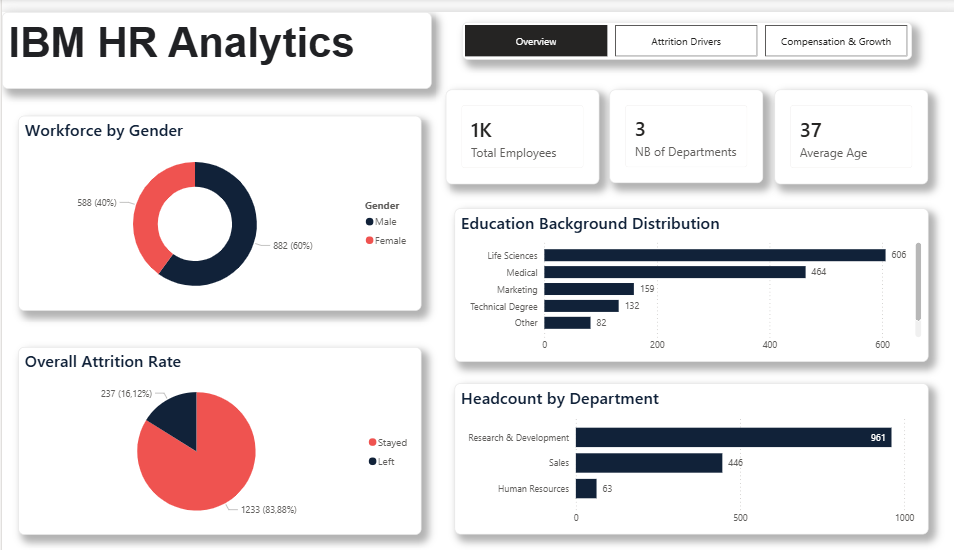

What the dashboard file says about the page in this screenshot:
{"tool":"powerbi","page":{"name":"Overview","canvas":[1280,720],"ordinal":0},"visuals":[{"type":"cardVisual","fields":{"Data":["WA_Fn-UseC_-HR-Employee-Attrition.NB of emplo"]},"box":[591.2,102.5,205,126.2],"z":0},{"type":"cardVisual","fields":{"Data":["WA_Fn-UseC_-HR-Employee-Attrition.NB of dept"]},"box":[810,103.8,205,125],"z":1000},{"type":"cardVisual","fields":{"Data":["WA_Fn-UseC_-HR-Employee-Attrition.avg age"]},"box":[1030,103.8,205,126.2],"z":2000},{"type":"donutChart","title":"Workforce by Gender","fields":{"Category":["WA_Fn-UseC_-HR-Employee-Attrition.Gender"],"Y":["WA_Fn-UseC_-HR-Employee-Attrition.NB of emplo"]},"box":[21.2,138.8,537.5,260],"z":3000},{"type":"pieChart","title":"Overall Attrition Rate","fields":{"Y":["WA_Fn-UseC_-HR-Employee-Attrition.attrition no","WA_Fn-UseC_-HR-Employee-Attrition.attrition yes"]},"box":[21.2,446.2,537.5,250],"z":4000},{"type":"clusteredBarChart","title":"Headcount by Department","fields":{"Y":["WA_Fn-UseC_-HR-Employee-Attrition.NB of emplo"],"Category":["WA_Fn-UseC_-HR-Employee-Attrition.Department"]},"box":[603.3,495,631.7,201.7],"z":5000},{"type":"clusteredBarChart","title":"Education Background Distribution","fields":{"Y":["WA_Fn-UseC_-HR-Employee-Attrition.NB of emplo"],"Category":["WA_Fn-UseC_-HR-Employee-Attrition.EducationField"]},"box":[603.3,261.7,631.7,205],"z":6000},{"type":"pageNavigator","box":[612.5,13.8,600,50],"z":6001},{"type":"textbox","box":[0,0,572.5,102.5],"z":6002}]}

Visuals, with their boxes in screenshot pixels (x1, y1, x2, y2), scaled from the page's 1280x720 canvas onto the 954x550 screenshot:
cardVisual - WA_Fn-UseC_-HR-Employee-Attrition.NB of emplo: <box>441,78,593,175</box>
cardVisual - WA_Fn-UseC_-HR-Employee-Attrition.NB of dept: <box>604,79,756,175</box>
cardVisual - WA_Fn-UseC_-HR-Employee-Attrition.avg age: <box>768,79,920,176</box>
"Workforce by Gender" donutChart: <box>16,106,416,305</box>
"Overall Attrition Rate" pieChart: <box>16,341,416,532</box>
"Headcount by Department" clusteredBarChart: <box>450,378,920,532</box>
"Education Background Distribution" clusteredBarChart: <box>450,200,920,357</box>
pageNavigator: <box>457,11,904,49</box>
textbox: <box>0,0,427,78</box>
